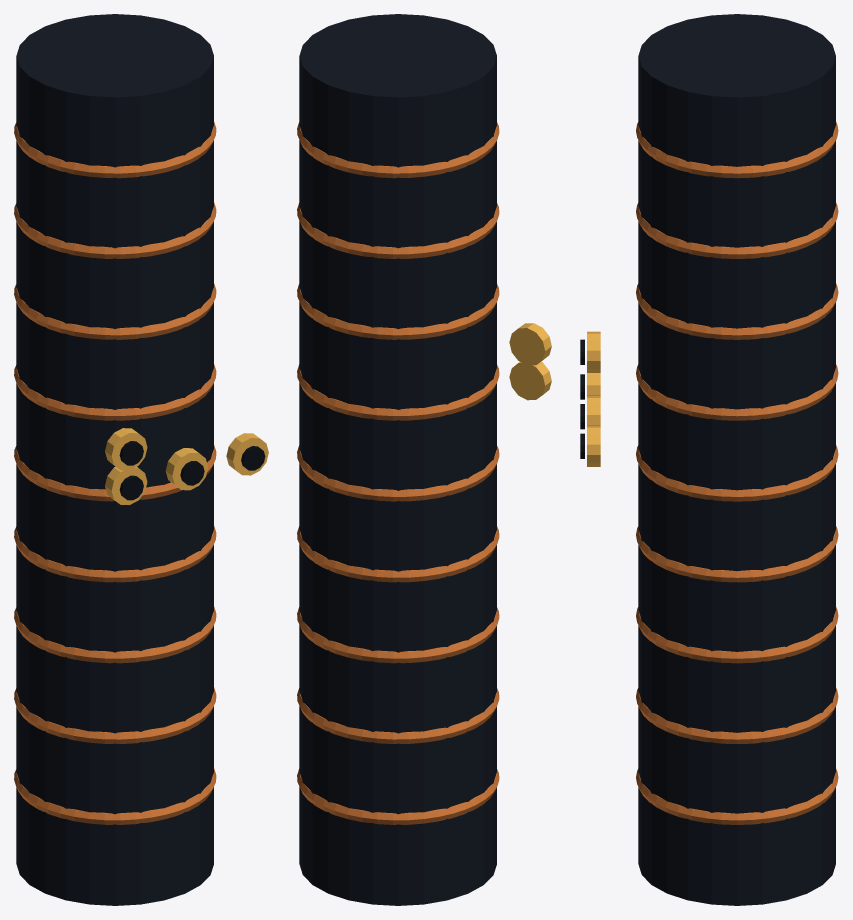
File: 35_L92_DrillSpindleAssembly.fbx
3 renders of one model, left to right at view 1: azimuth 30°, elevation 25°; view 2: azimuth 150°, elevation 25°; view 3: azimuth 270°, elevation 25°, orthographic.
Visible parts, largest first — view 1: L92_DrillSpindleAssembly_Part_0000, L92_DrillSpindleAssembly_Part_0001, L92_DrillSpindleAssembly_Part_0006, L92_DrillSpindleAssembly_Part_0004, L92_DrillSpindleAssembly_Part_0008, L92_DrillSpindleAssembly_Part_0002; view 2: L92_DrillSpindleAssembly_Part_0000, L92_DrillSpindleAssembly_Part_0001, L92_DrillSpindleAssembly_Part_0008, L92_DrillSpindleAssembly_Part_0002; view 3: L92_DrillSpindleAssembly_Part_0000, L92_DrillSpindleAssembly_Part_0001, L92_DrillSpindleAssembly_Part_0006, L92_DrillSpindleAssembly_Part_0008.
Boxes of the visible parts, box(x1,y1,x2,y2) form: L92_DrillSpindleAssembly_Part_0000: box(16, 14, 213, 905); L92_DrillSpindleAssembly_Part_0001: box(14, 122, 216, 824); L92_DrillSpindleAssembly_Part_0006: box(226, 433, 268, 475); L92_DrillSpindleAssembly_Part_0004: box(165, 448, 207, 490); L92_DrillSpindleAssembly_Part_0008: box(105, 428, 147, 470); L92_DrillSpindleAssembly_Part_0002: box(105, 466, 147, 505); L92_DrillSpindleAssembly_Part_0000: box(299, 14, 496, 905); L92_DrillSpindleAssembly_Part_0001: box(297, 122, 499, 824); L92_DrillSpindleAssembly_Part_0008: box(509, 323, 551, 365); L92_DrillSpindleAssembly_Part_0002: box(509, 361, 551, 400); L92_DrillSpindleAssembly_Part_0000: box(638, 14, 835, 905); L92_DrillSpindleAssembly_Part_0001: box(636, 122, 838, 824); L92_DrillSpindleAssembly_Part_0006: box(587, 425, 600, 466); L92_DrillSpindleAssembly_Part_0008: box(587, 331, 600, 372).
Bounding box in the file's own units: 63.6 × 280 × 81.
